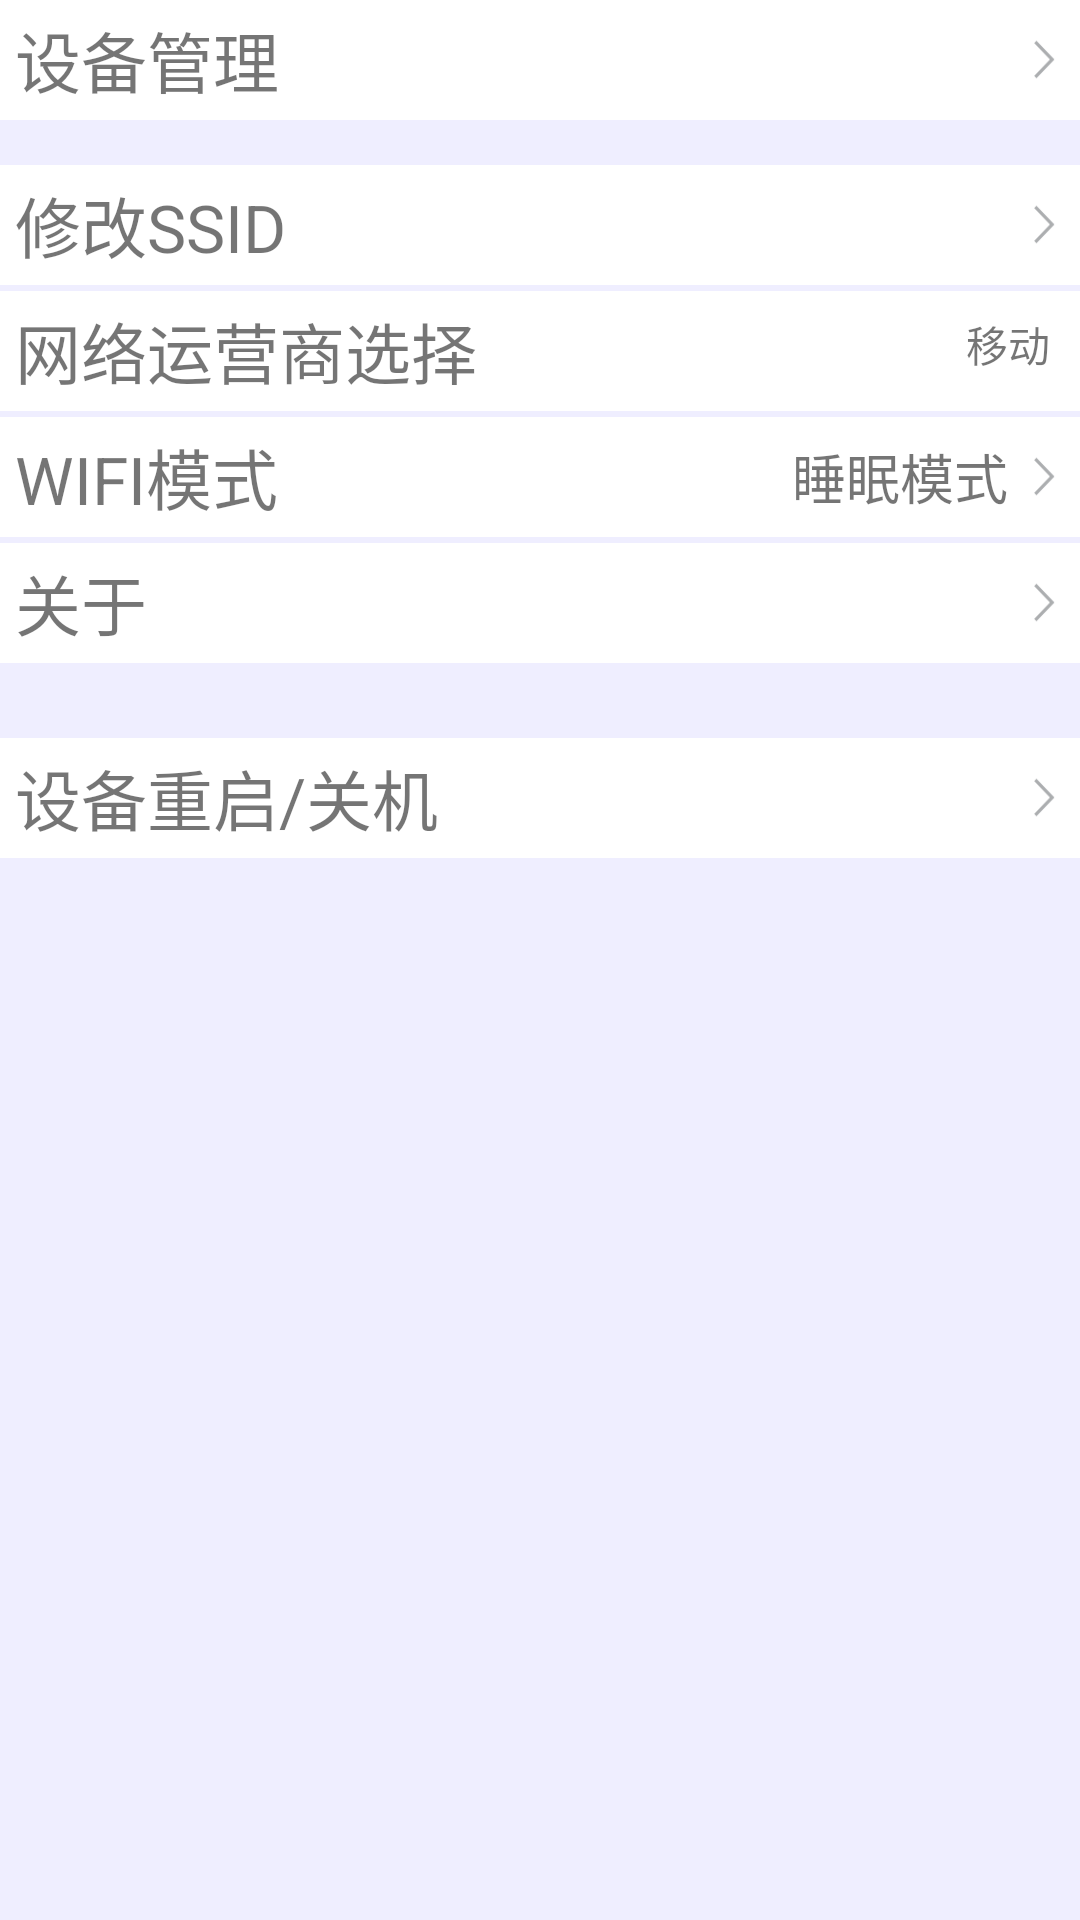

Icon click points for this 1080×1920 phone screenshot, format (x,y):
more: (1044,59), (1044,224), (1044,476), (1044,602), (1044,797)
